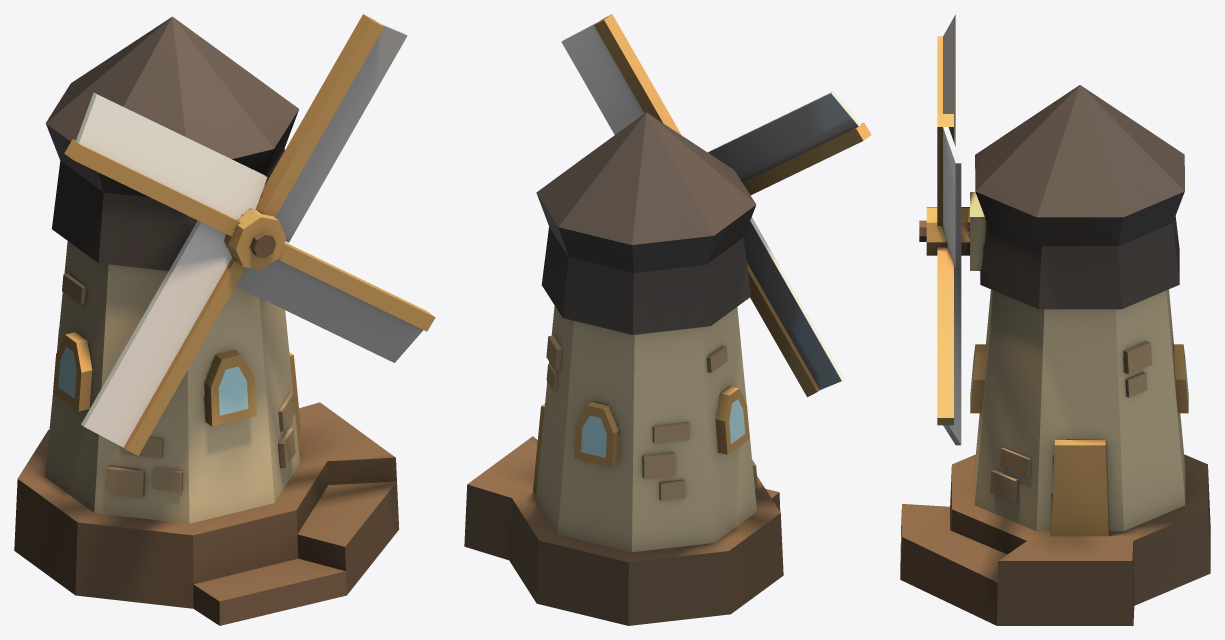
Rendered from PUSHILIN_windmill.obj.
3 views of the same model, side by side, from view 1: azimuth 30°, elevation 25°; view 2: azimuth 150°, elevation 25°; view 3: azimuth 270°, elevation 25° (orthographic). The views are drawn at different scales.
Visible parts, largest first — view 1: windmill; view 2: windmill; view 3: windmill.
Part boxes in pixels (<box>): windmill: <box>14,14,435,625</box>; windmill: <box>464,14,871,625</box>; windmill: <box>900,14,1210,625</box>.
Bounding box in the file's own units: 1.63 × 2.36 × 1.36.
